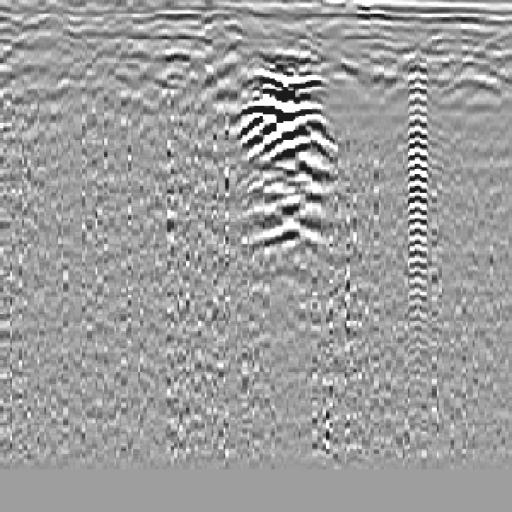metalic: (216, 43, 355, 269)
